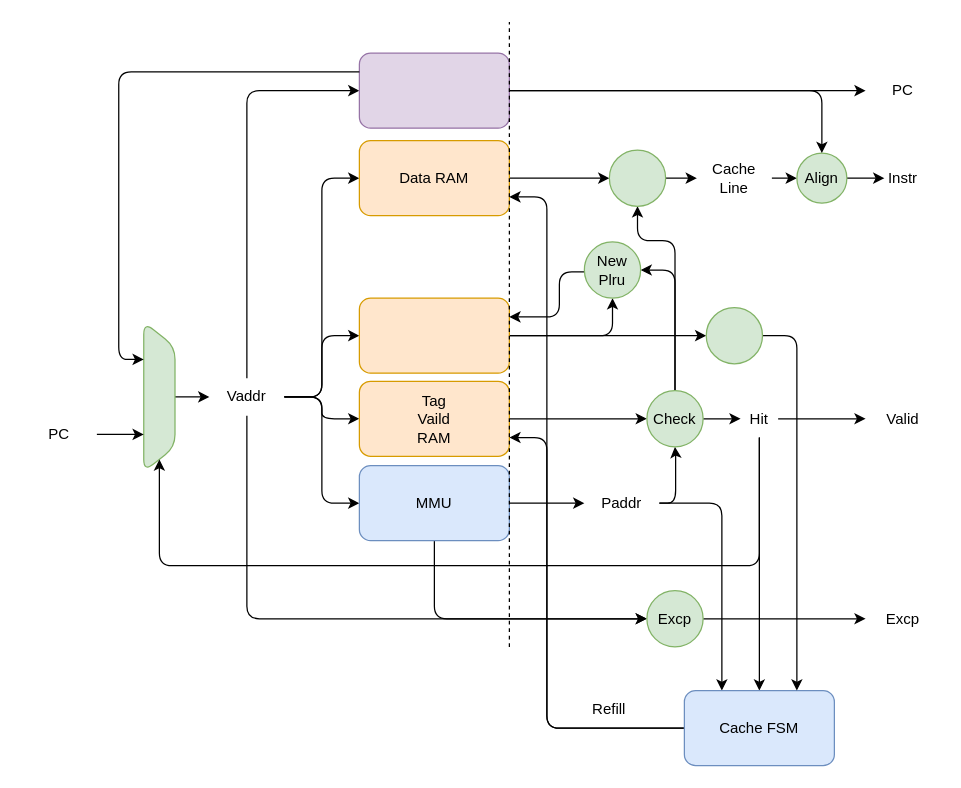
This 961x788 diagram has some shape labels left out. The shapes that lost their labels are listed below. From the top down, each one's centre as x and y in pixels, then its label:
[433,90]: Vaddr Buffer
[637,177]: Choose
[433,335]: Plru Ram
[733,335]: Repl Way
